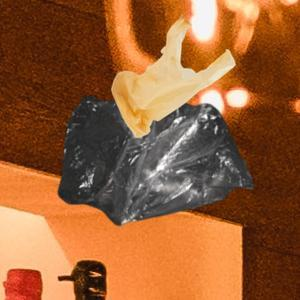plastic_bag: (103, 17, 240, 137)
